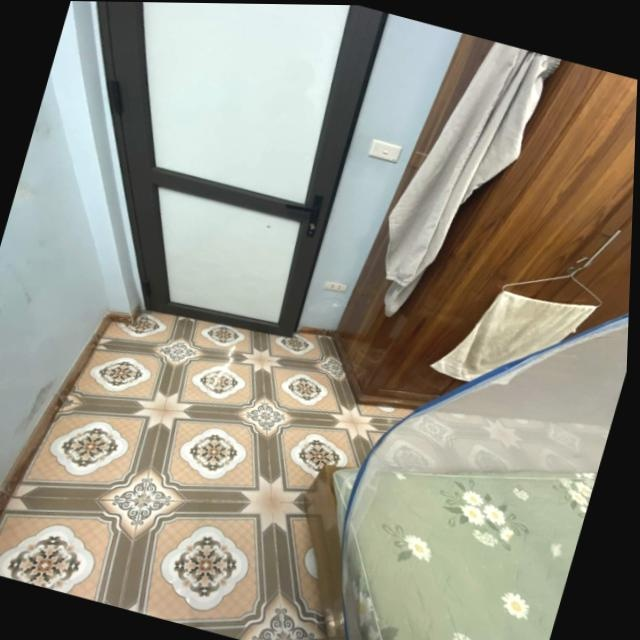outlet: (321, 277, 348, 295)
